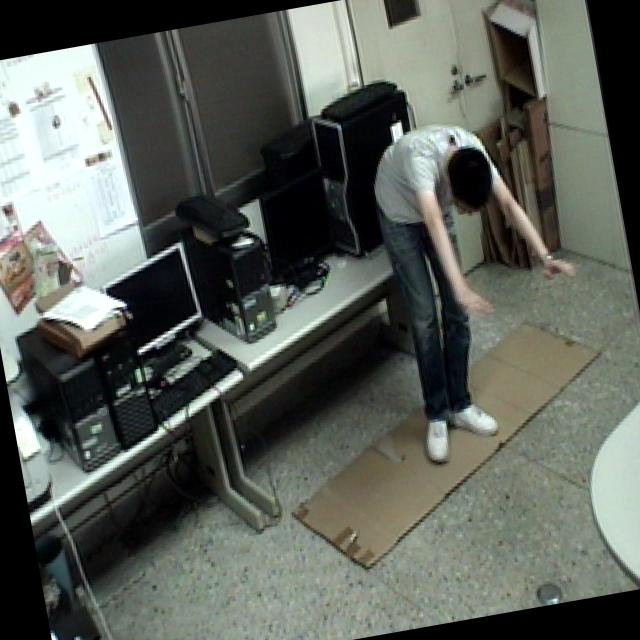bend: (359, 100, 610, 470)
